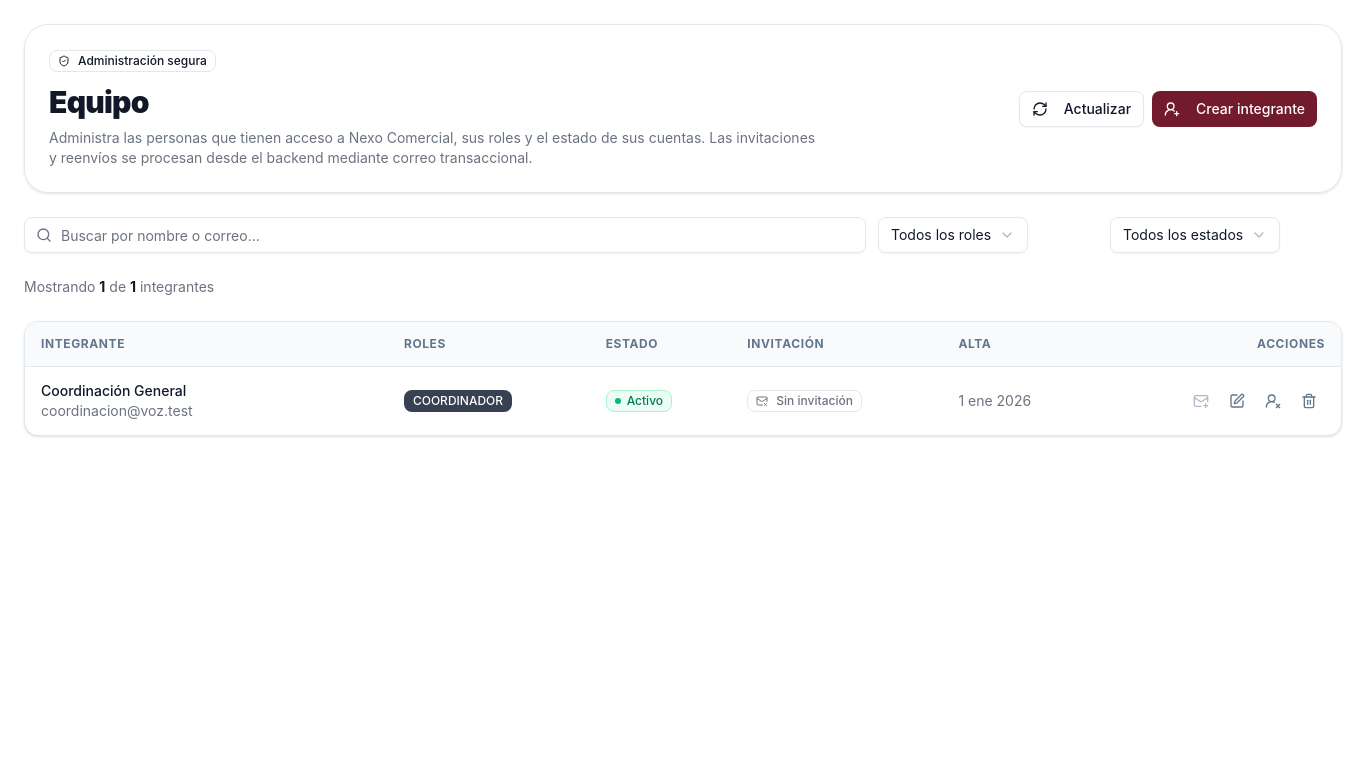
Test: TeamView destructive confirmations › still confirms before deactivating an active member
Click the button named "desactivar coordinación general" at (1273, 400), box [1257, 384, 1289, 416]
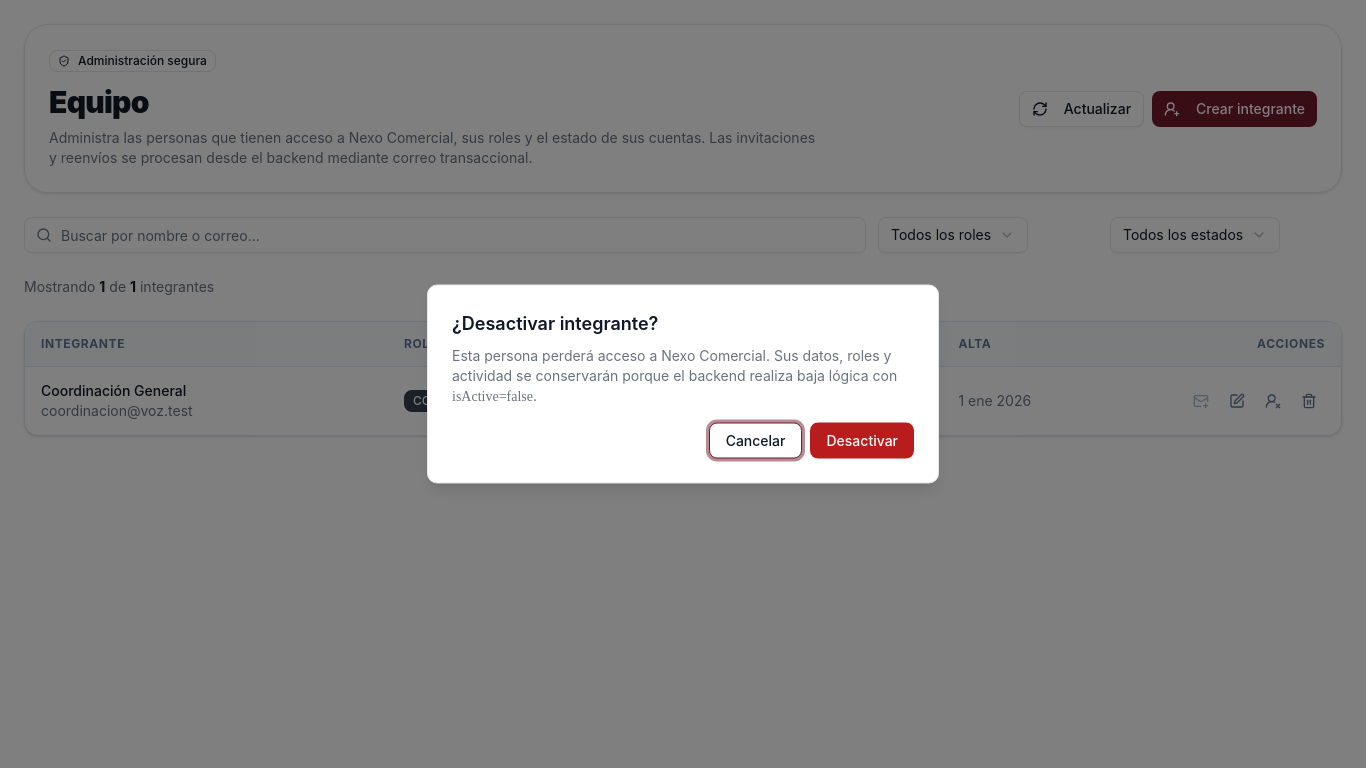
Check: the dialog is shown, box [427, 284, 939, 484]
Click the button "Desactivar" at (862, 440), box [810, 422, 914, 458]
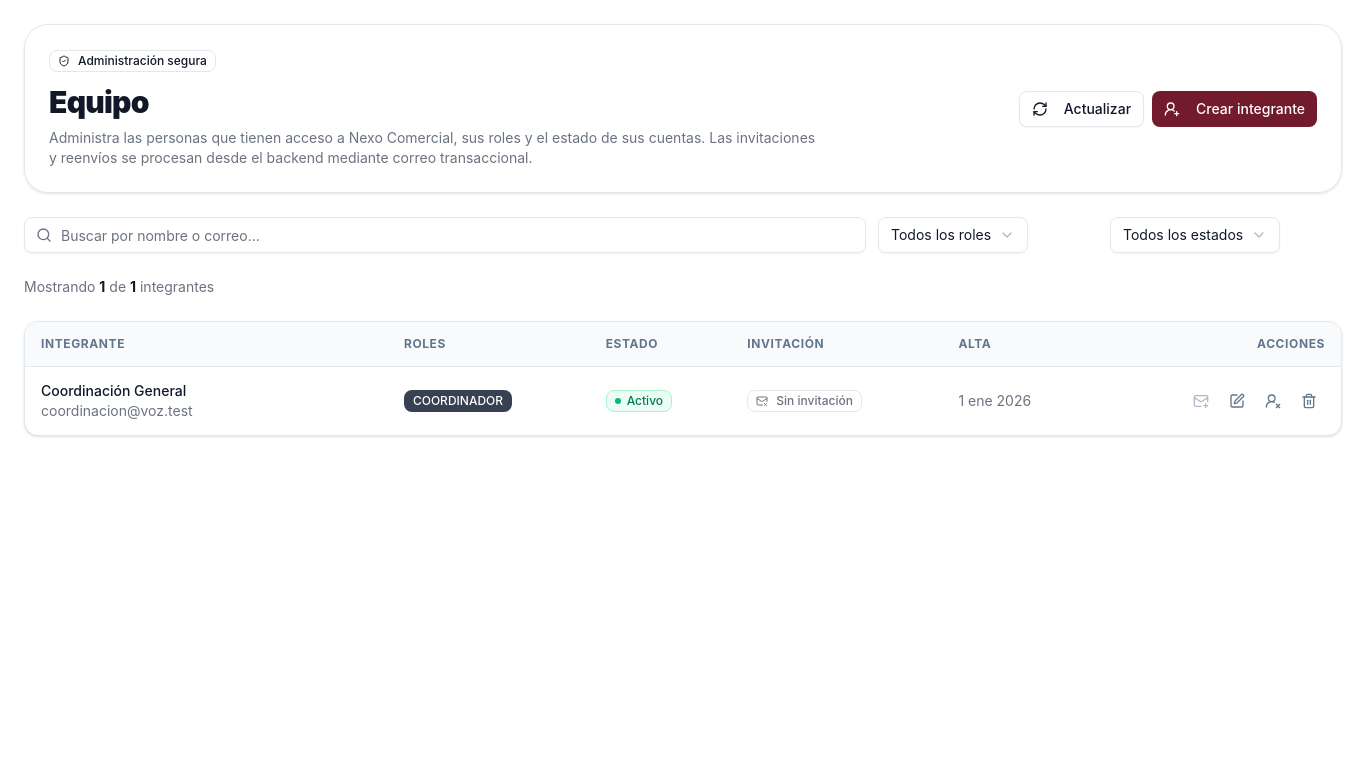
Check: the dialog is gone
